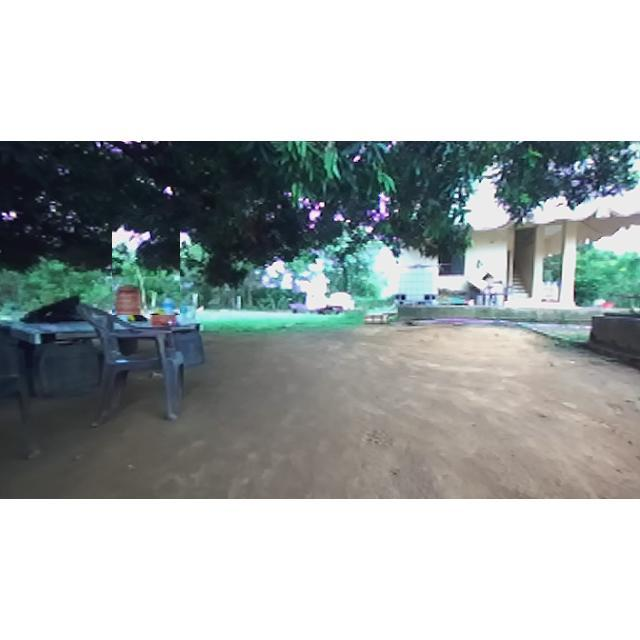direk: (1, 144, 640, 274), (112, 215, 180, 315)
